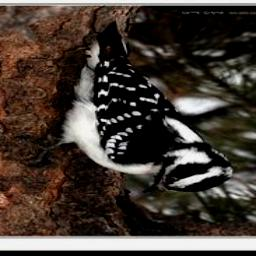Woodpecker: (27, 16, 234, 193)
